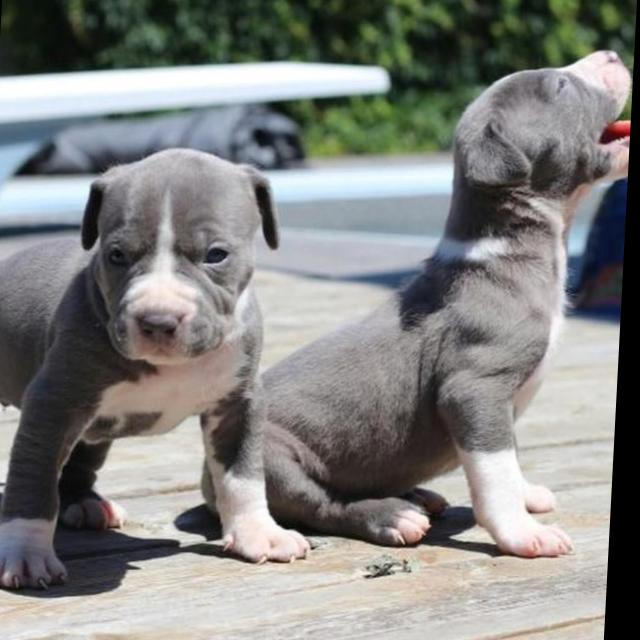am_pit_bull_terrier: (207, 48, 637, 561), (1, 146, 337, 592)
